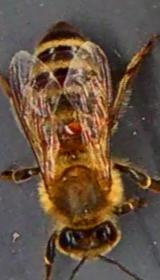varroa_mite: (56, 116, 86, 136)
